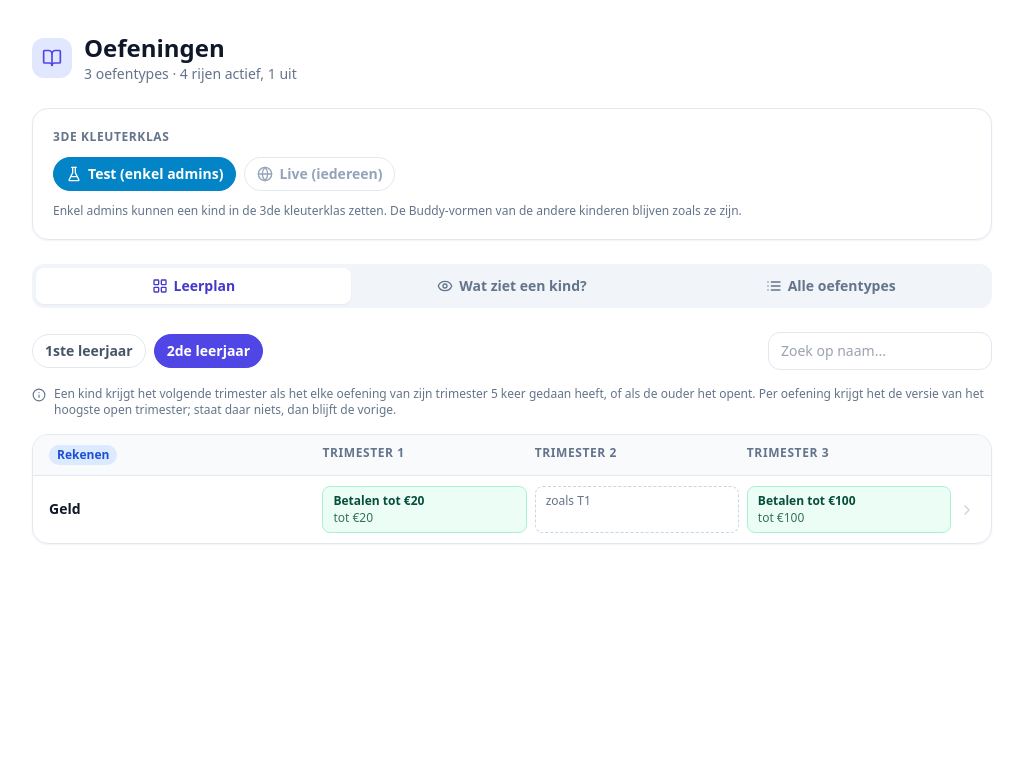
Test: AdminExercises — Leerplan › opens on the leerplan: per grade, each type with what each trimester gives
This screenshot has width=1024, height=768.
Later steps or results of the test are not shown.
Expected: the text "Geld" is shown, [49,498,80,518]
Expected: the text "Betalen tot €20" is shown, [333,492,424,509]
Click the button "1ste leerjaar": (89, 351) [32,334,146,368]
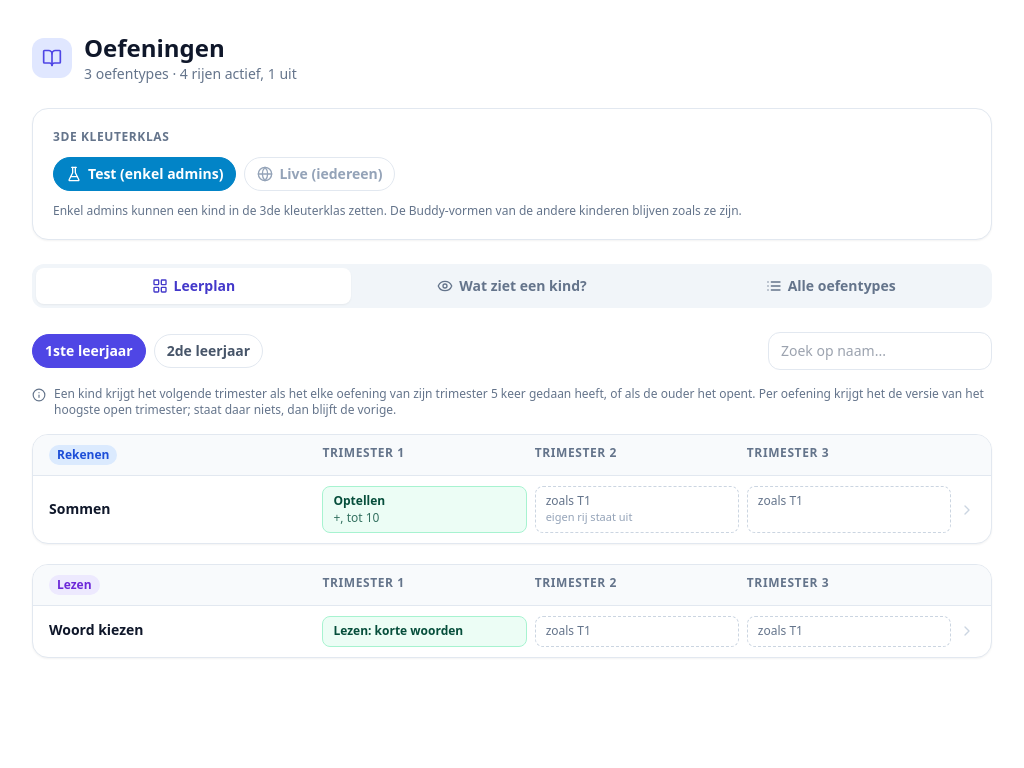
Expected: the text "Sommen" is shown, [49,498,110,518]
Expected: the text "+, tot 10" is shown, [333,508,379,526]
